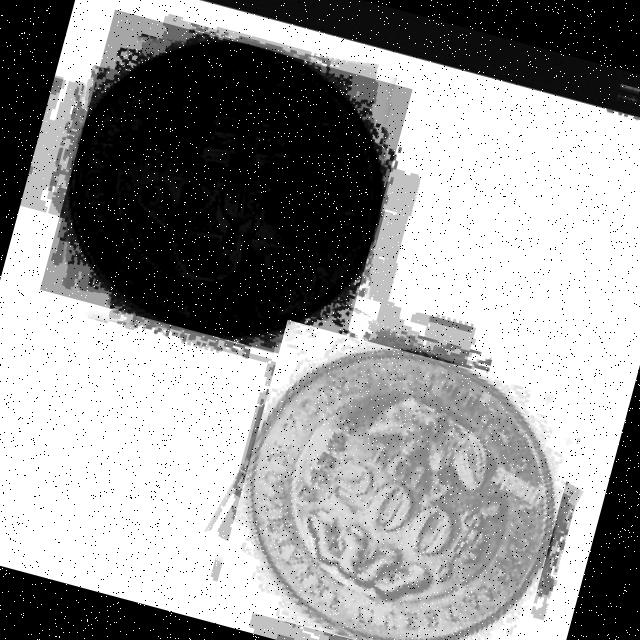teemeer: (70, 44, 381, 335), (248, 351, 554, 640)
